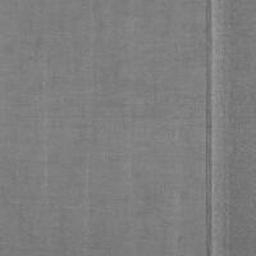Welding line: (204, 0, 214, 256)
